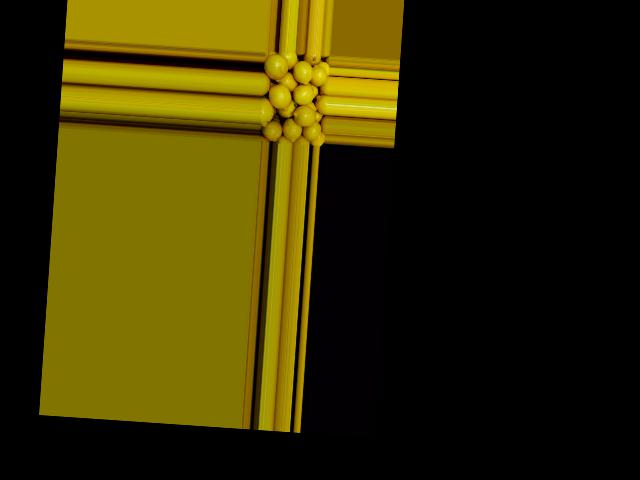lemon: (258, 98, 274, 129)
